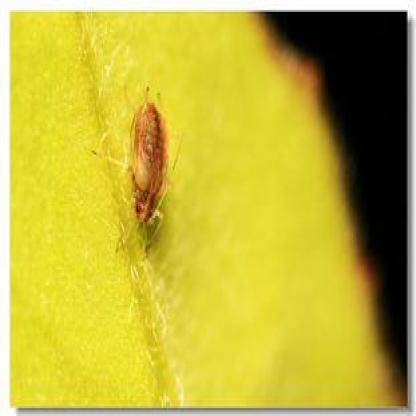aphid: (93, 76, 192, 252)
